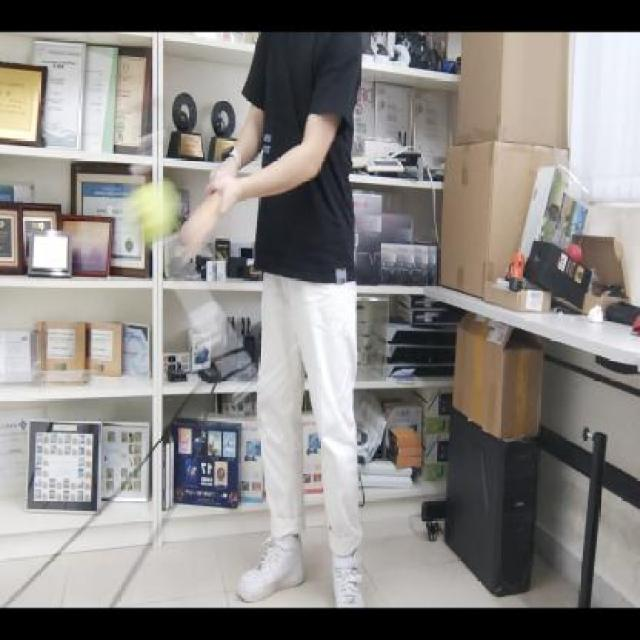baseball: (122, 178, 184, 244)
